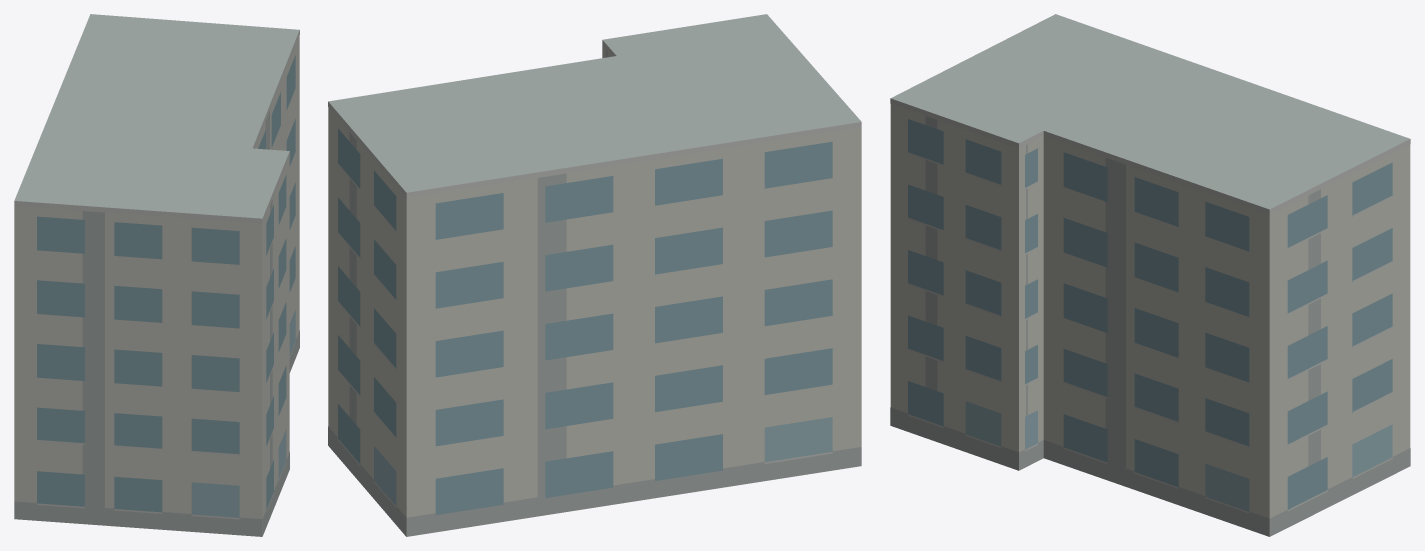
Rendered from survey-upis-32675450.glb.
The picture shows the model from 3 angles, left to right: view 1: azimuth 30°, elevation 25°; view 2: azimuth 150°, elevation 25°; view 3: azimuth 270°, elevation 25°; orthographic projection. The views are drawn at different scales.
Parts seen in each view (by area): view 1: survey-upis-32675450.tmp; view 2: survey-upis-32675450.tmp; view 3: survey-upis-32675450.tmp.
Part boxes in pixels (left/top/right/bottom): survey-upis-32675450.tmp: left=14, top=14, right=299, bottom=536; survey-upis-32675450.tmp: left=328, top=14, right=861, bottom=536; survey-upis-32675450.tmp: left=890, top=14, right=1410, bottom=536.
Bounding box in the file's own units: 19.02 × 14.85 × 21.38.
